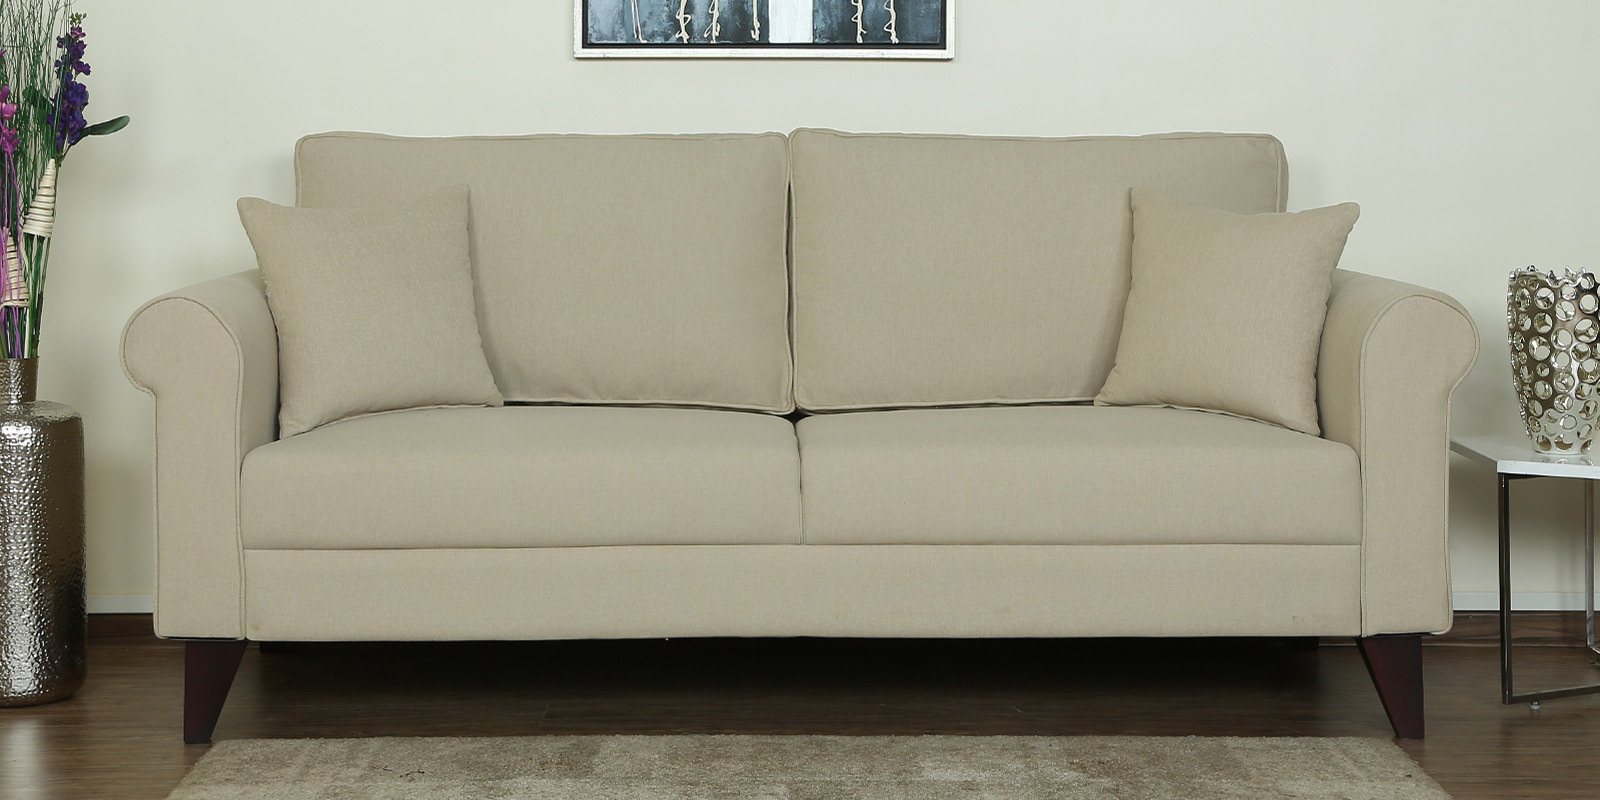Fuego Three Seater Sofa in Beige Colour by CasaCraft: (113, 116, 1473, 755)
